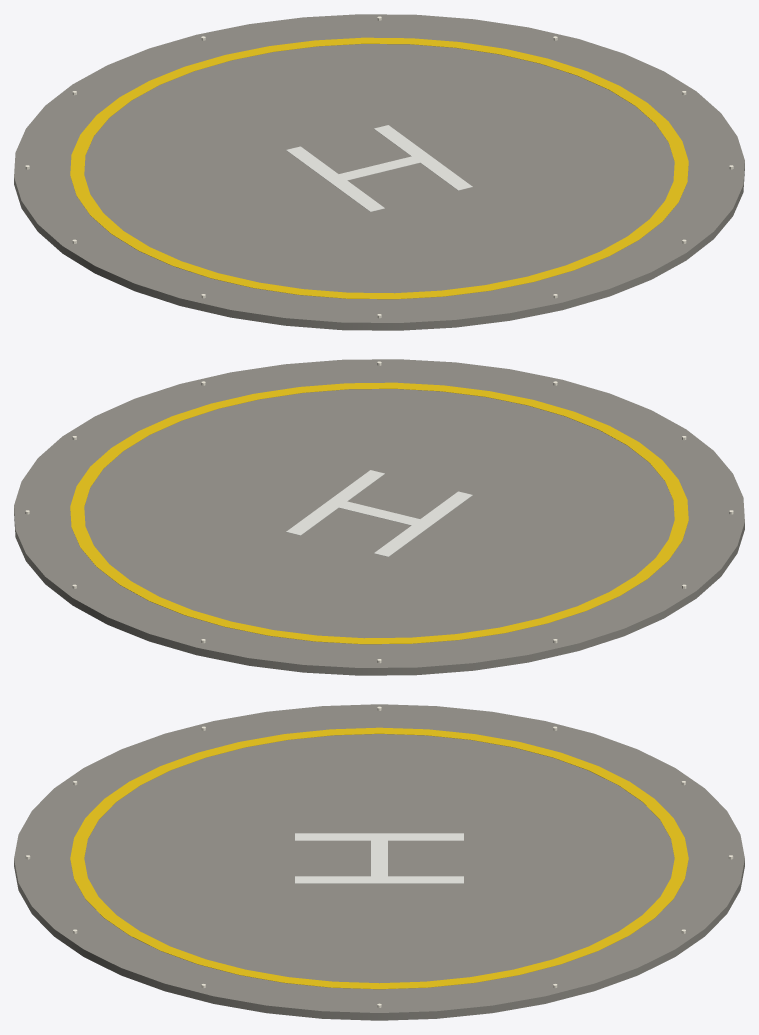
File: airport.airside.helipad.glb
The picture shows the model from 3 angles, top to bottom: view 1: azimuth 30°, elevation 25°; view 2: azimuth 150°, elevation 25°; view 3: azimuth 270°, elevation 25°; orthographic projection.
Visible parts, largest first — view 1: main__concrete, main__plastic_yellow, main__paint_white; view 2: main__concrete, main__plastic_yellow, main__paint_white; view 3: main__concrete, main__plastic_yellow, main__paint_white.
Boxes of the visible parts, x1,y1,x2,y2 form: main__concrete: (14,14,744,330); main__plastic_yellow: (70,37,688,299); main__paint_white: (286,125,472,211); main__concrete: (14,359,744,675); main__plastic_yellow: (70,382,688,644); main__paint_white: (286,470,472,556); main__concrete: (14,704,744,1020); main__plastic_yellow: (70,727,688,989); main__paint_white: (295,833,463,883).
Bounding box in the file's own units: 26 × 0.4 × 26.
